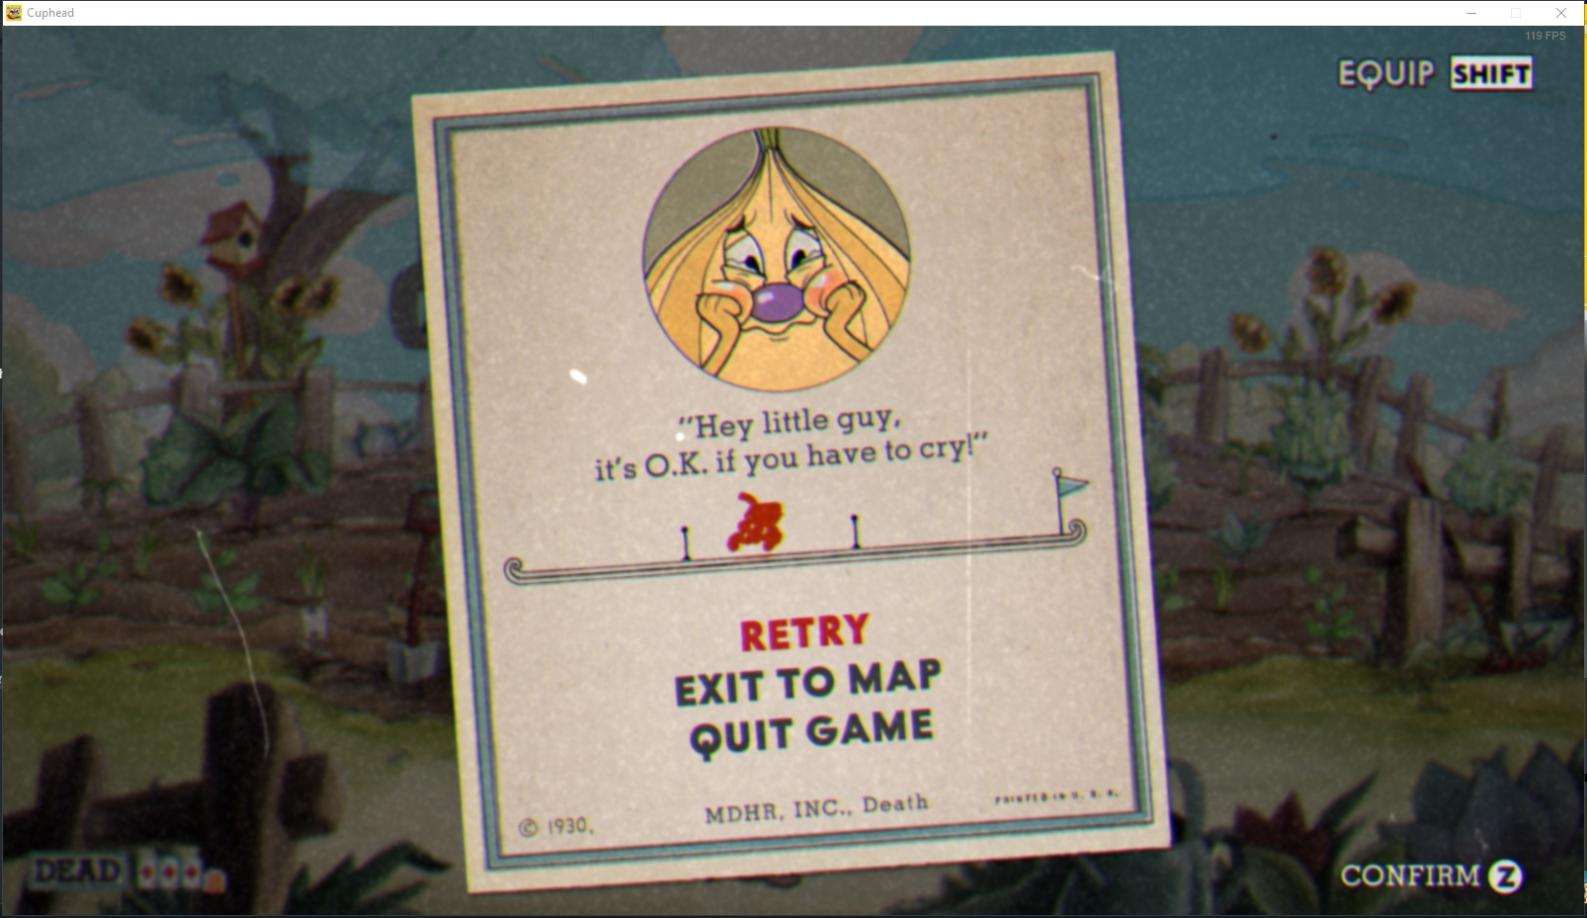onion_icon: (638, 119, 924, 397)
player_progress: (722, 486, 793, 559)
